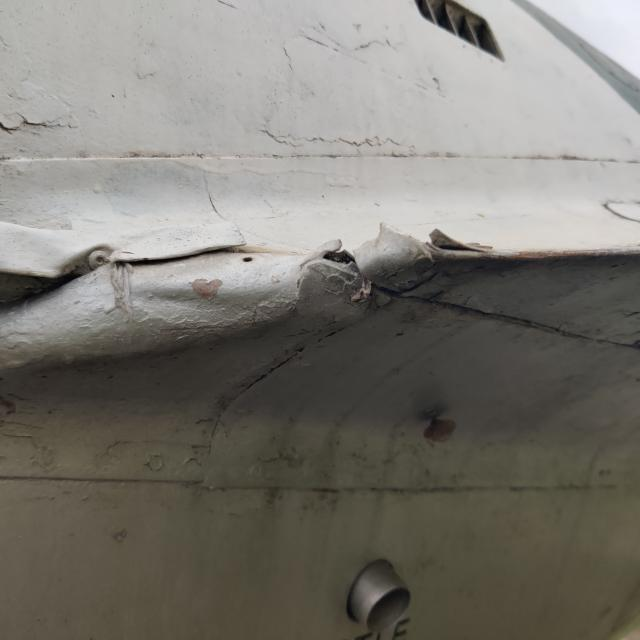crack: (371, 199, 512, 280), (293, 220, 376, 294)
